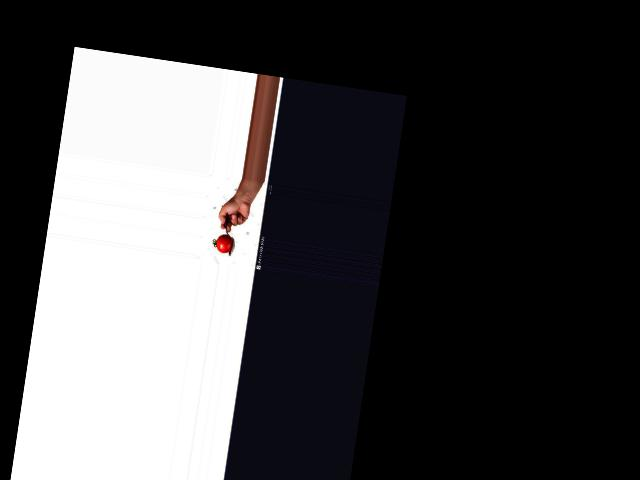tomato: (215, 232, 233, 253)
